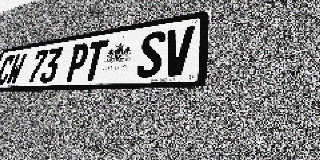3: (38, 47, 64, 83)
7: (25, 49, 49, 84)
C: (0, 54, 16, 86)
P: (64, 42, 91, 82)
S: (135, 30, 167, 78)
T: (81, 39, 109, 81)
V: (161, 25, 195, 77)
W: (5, 53, 27, 85)
